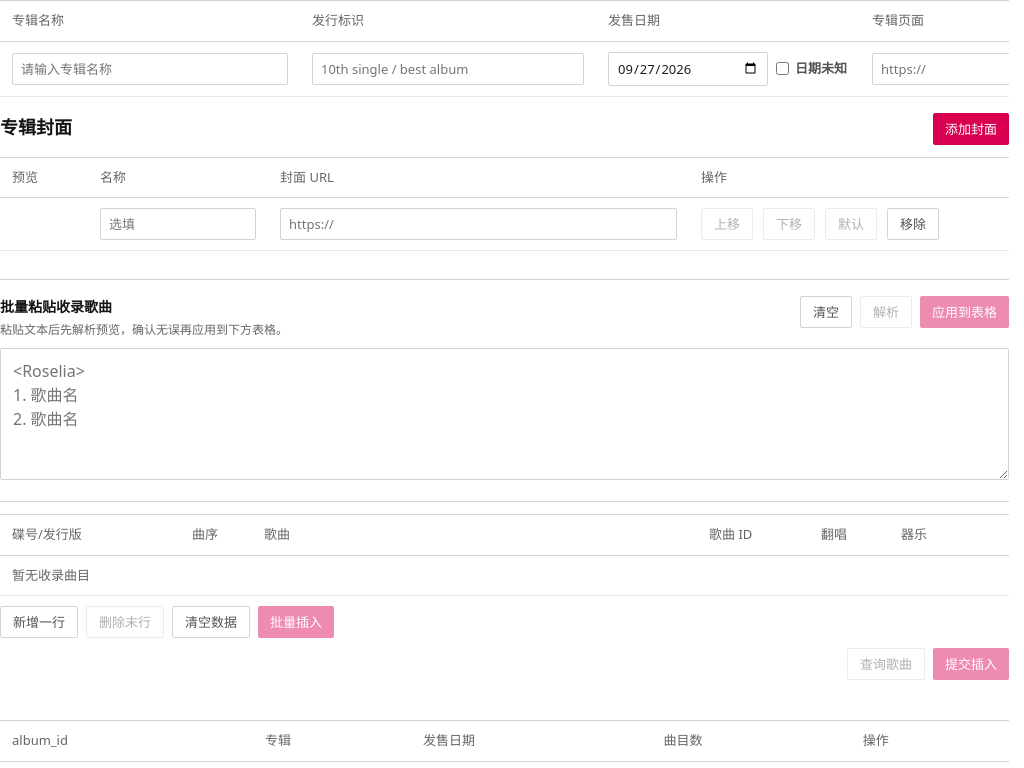
Test: album creation defaults and resets to the current local date
Expected: the checkbox labelled "日期未知" is not checked, [776,62,789,75]
Type "2025-01-02" into the date field named "发售日期" at [688, 68], box [608,52,768,86]
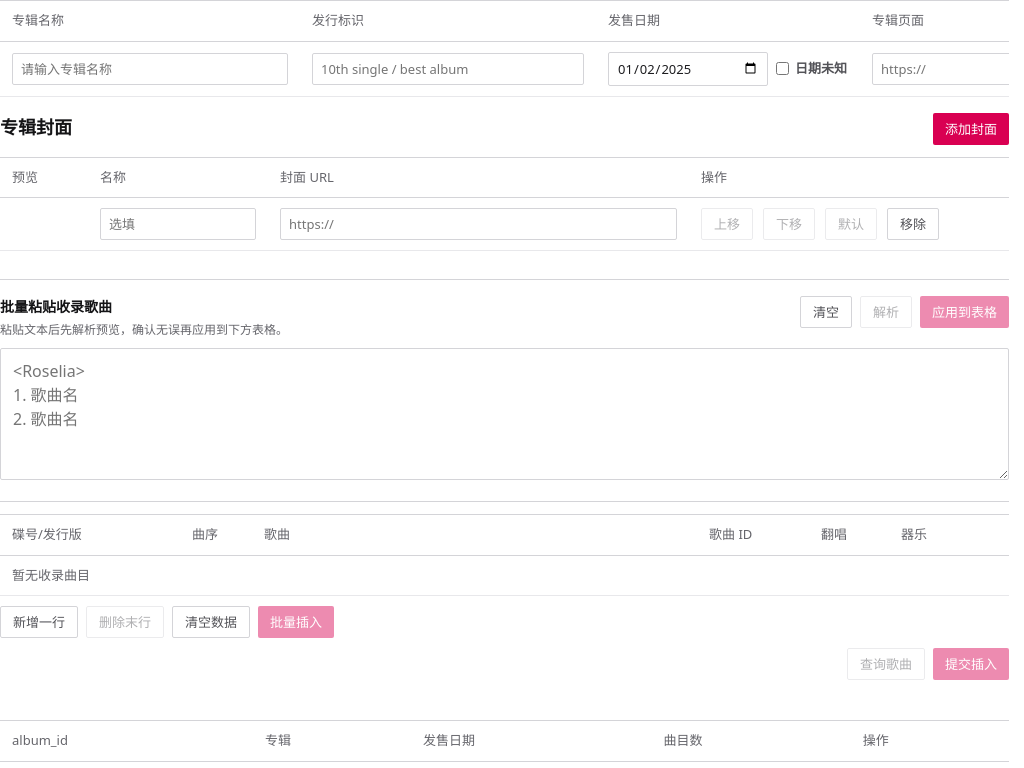
Click the button "清空数据" at [211, 622], box [172,606,250,638]
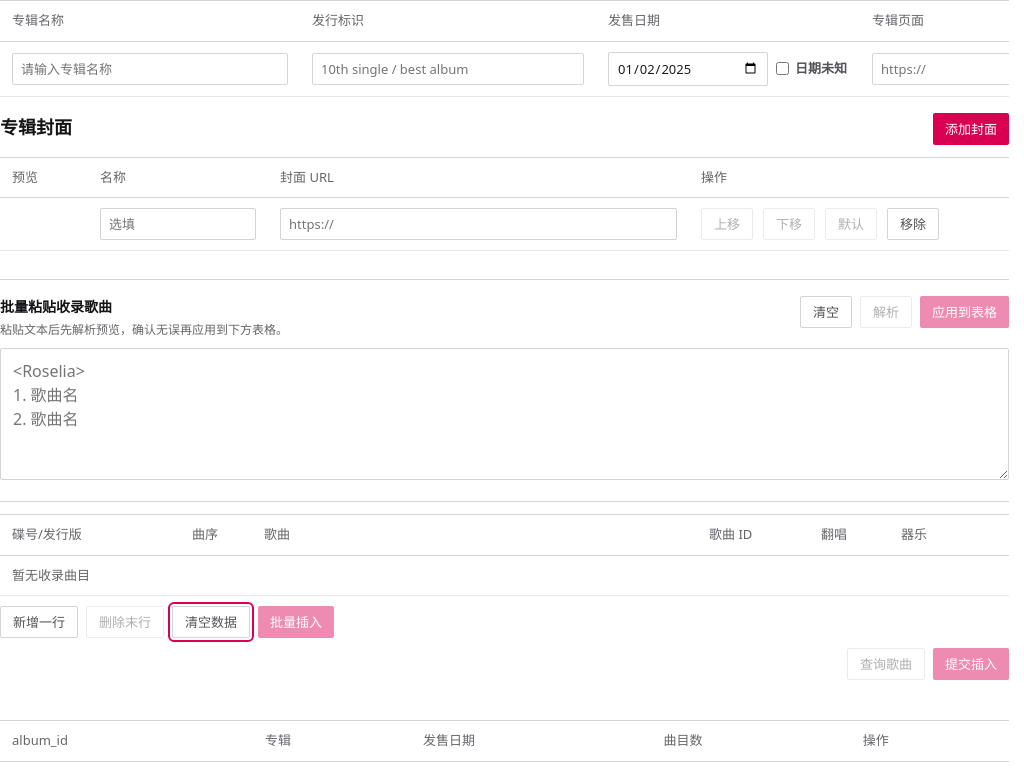
Type "日期核对" into the field labelled "专辑名称" at [150, 68], box [12,52,288,84]
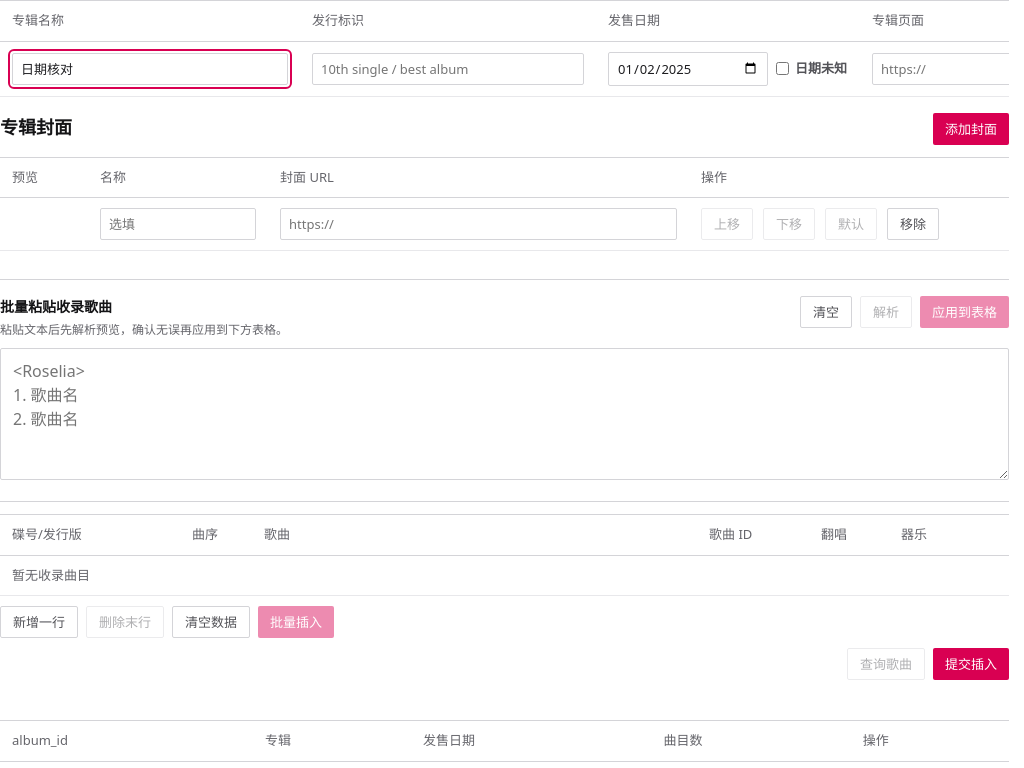
Click the checkbox labelled "日期未知" at [782, 68], box [776,62,789,75]
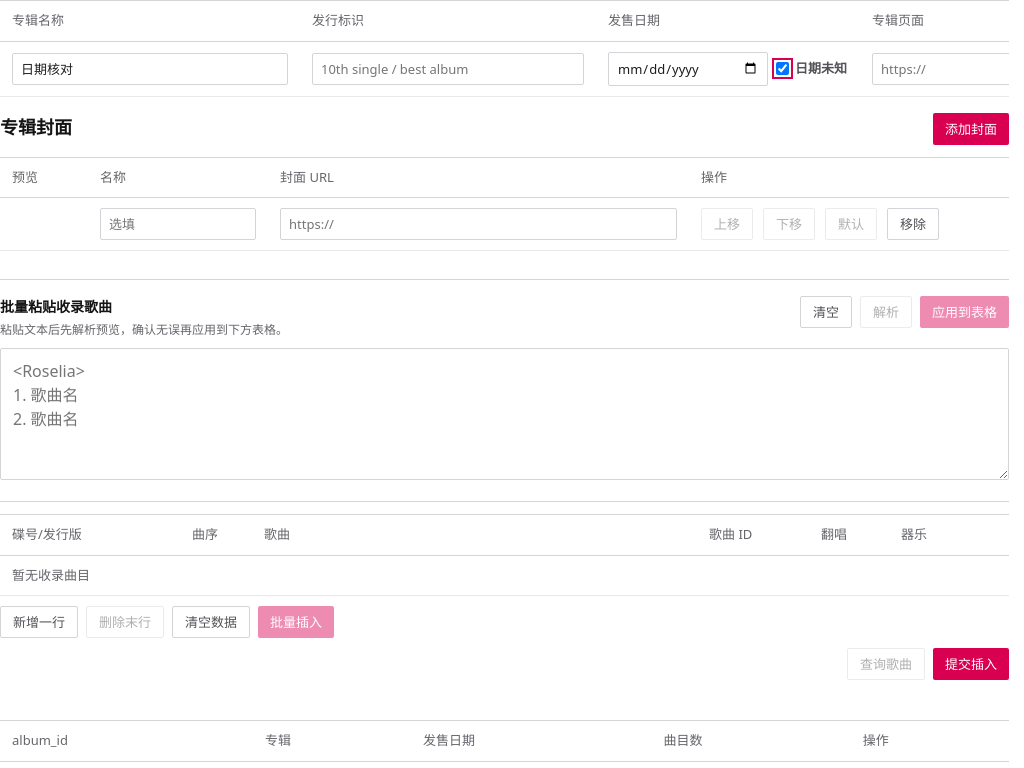
Click the button "提交插入" at [971, 664], box [933,648,1009,680]
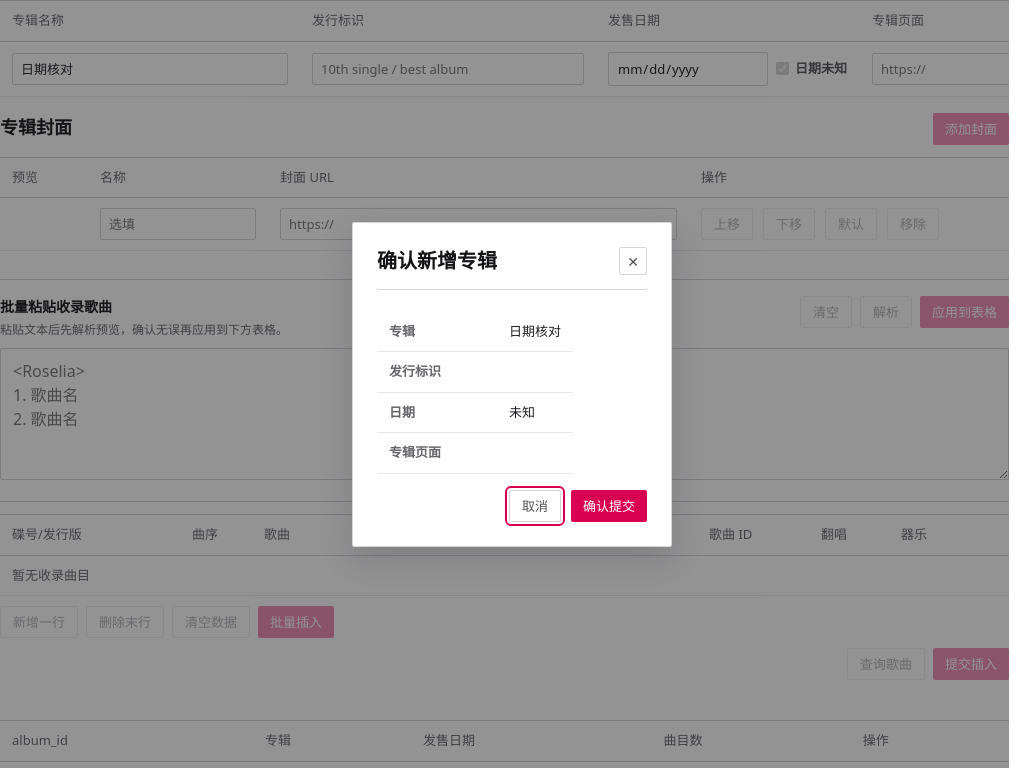
Click the button "确认提交" at [609, 506], box [571,490,647,522]
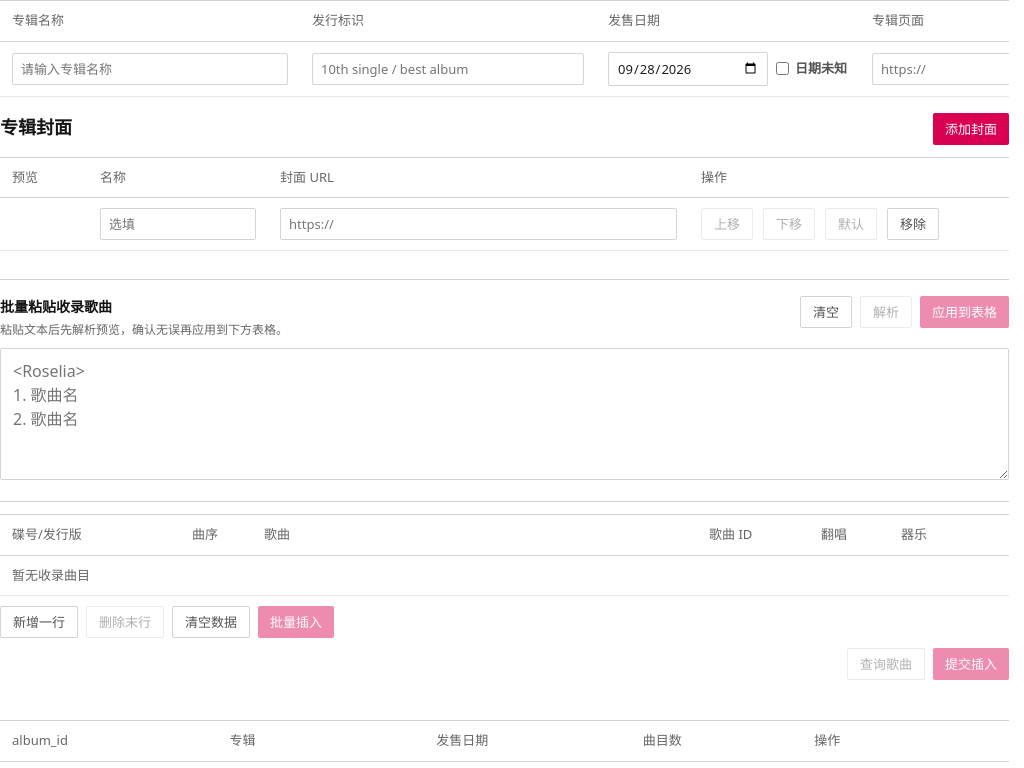
Result: the checkbox labelled "日期未知" is not checked at [776,62,789,75]
Result: the date field named "发售日期" holds "2026-09-28" at [608,52,768,86]
